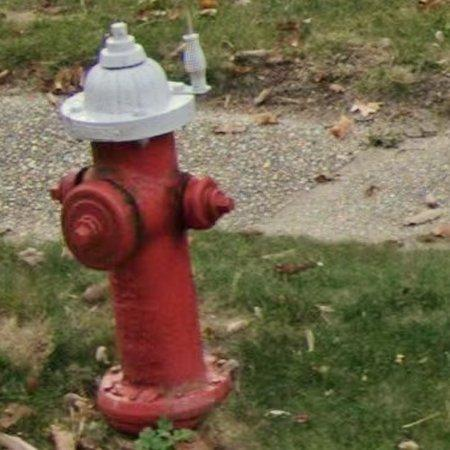a fire hydrant: (52, 22, 235, 433)
